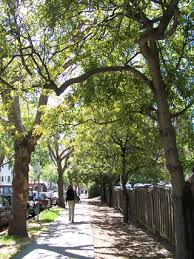tree: (1, 4, 62, 243)
